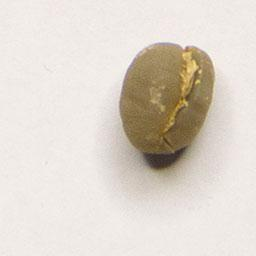peaberry: (116, 37, 218, 159)
